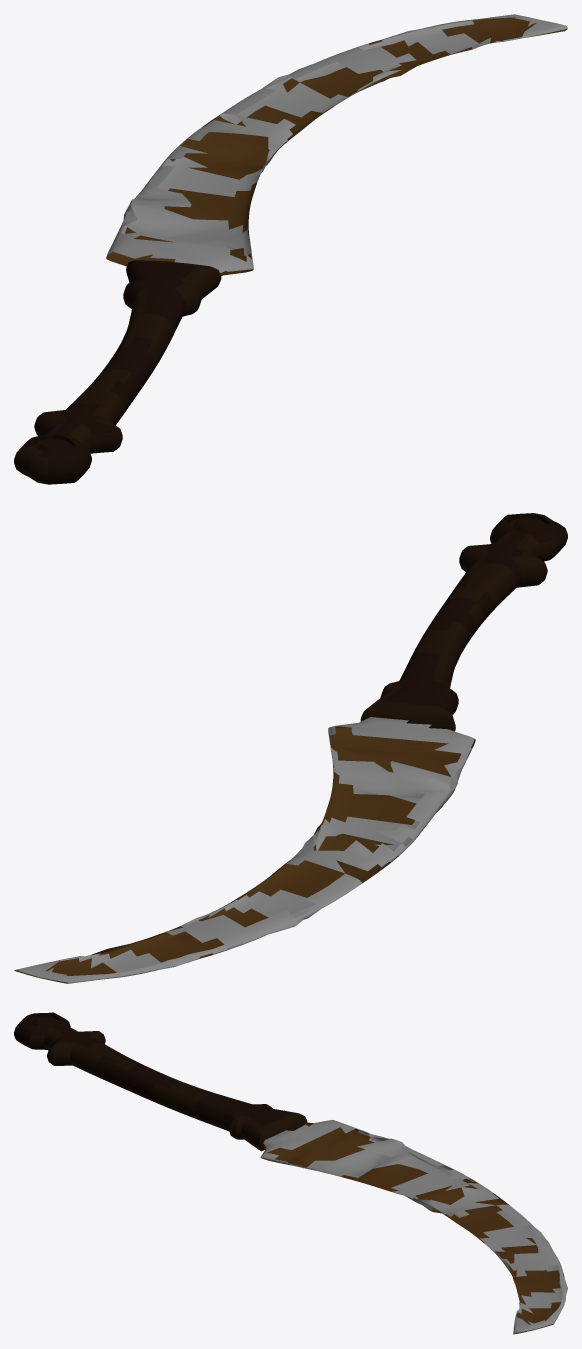
Rendered from old_dagger.fbx.
3 renders of one model, top to bottom at view 1: azimuth 30°, elevation 25°; view 2: azimuth 210°, elevation 25°; view 3: azimuth 270°, elevation 25°, orthographic. The views are drawn at different scales.
Parts seen in each view (by area): view 1: Old Dagger; view 2: Old Dagger; view 3: Old Dagger.
Part boxes in pixels (bbox=[...]): Old Dagger: bbox=[14, 14, 567, 484]; Old Dagger: bbox=[14, 513, 567, 983]; Old Dagger: bbox=[14, 1012, 567, 1334].
Bounding box in the file's own units: 314 × 10.56 × 234.
